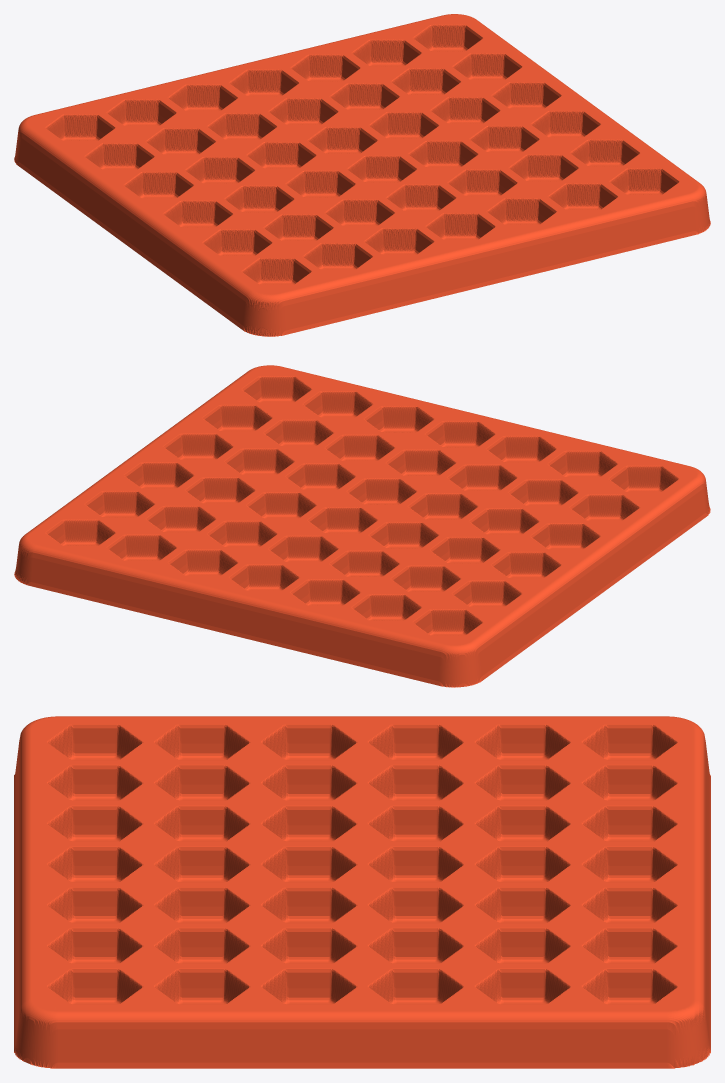
File: mold.glb
3 views of the same model, one above another, from view 1: azimuth 30°, elevation 25°; view 2: azimuth 150°, elevation 25°; view 3: azimuth 270°, elevation 25° (orthographic). The views are drawn at different scales.
Parts seen in each view (by area): view 1: geometry_0; view 2: geometry_0; view 3: geometry_0.
Boxes of the visible parts, left/top/right/bottom form: geometry_0: left=14, top=14, right=710, bottom=336; geometry_0: left=14, top=365, right=710, bottom=687; geometry_0: left=14, top=716, right=710, bottom=1068.
Bounding box in the file's own units: 0.1505 × 0.0114 × 0.1437.
